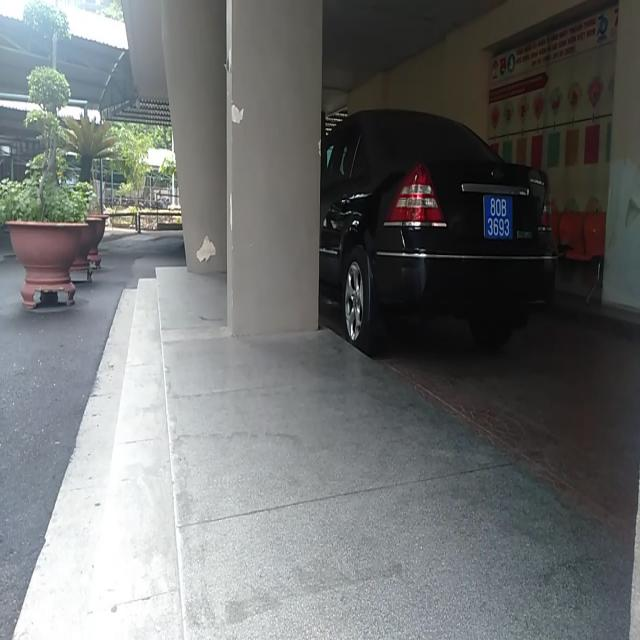bien_xanh: (481, 193, 516, 246)
